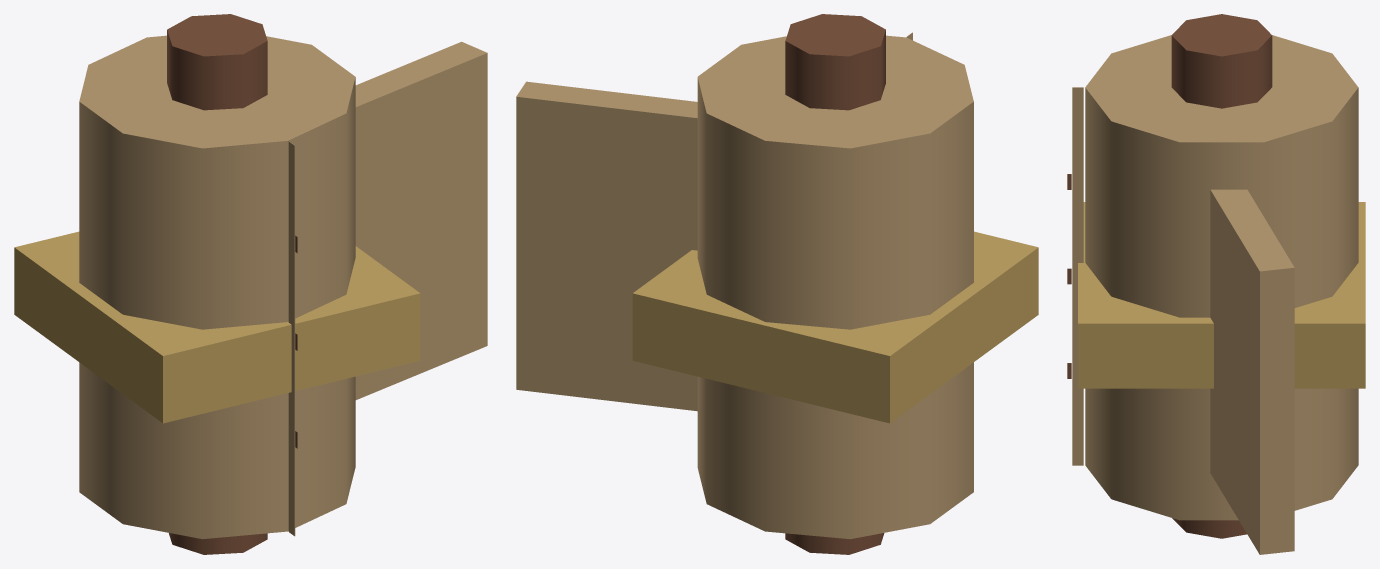
File: scroll-0.glb
3 views of the same model, side by side, from view 1: azimuth 30°, elevation 25°; view 2: azimuth 150°, elevation 25°; view 3: azimuth 270°, elevation 25° (orthographic). The views are drawn at different scales.
Parts seen in each view (by area): view 1: piece_whole, ReadingSheet; view 2: piece_whole; view 3: piece_whole, ReadingSheet.
Part boxes in pixels (box(x1,y1,x2,y2)): piece_whole: box(14, 14, 487, 554); ReadingSheet: box(288, 141, 297, 536); piece_whole: box(516, 14, 1038, 554); piece_whole: box(1078, 14, 1365, 554); ReadingSheet: box(1067, 87, 1083, 465).
Size of the model in its own units: 0.3251 by 0.37 by 0.2075.
